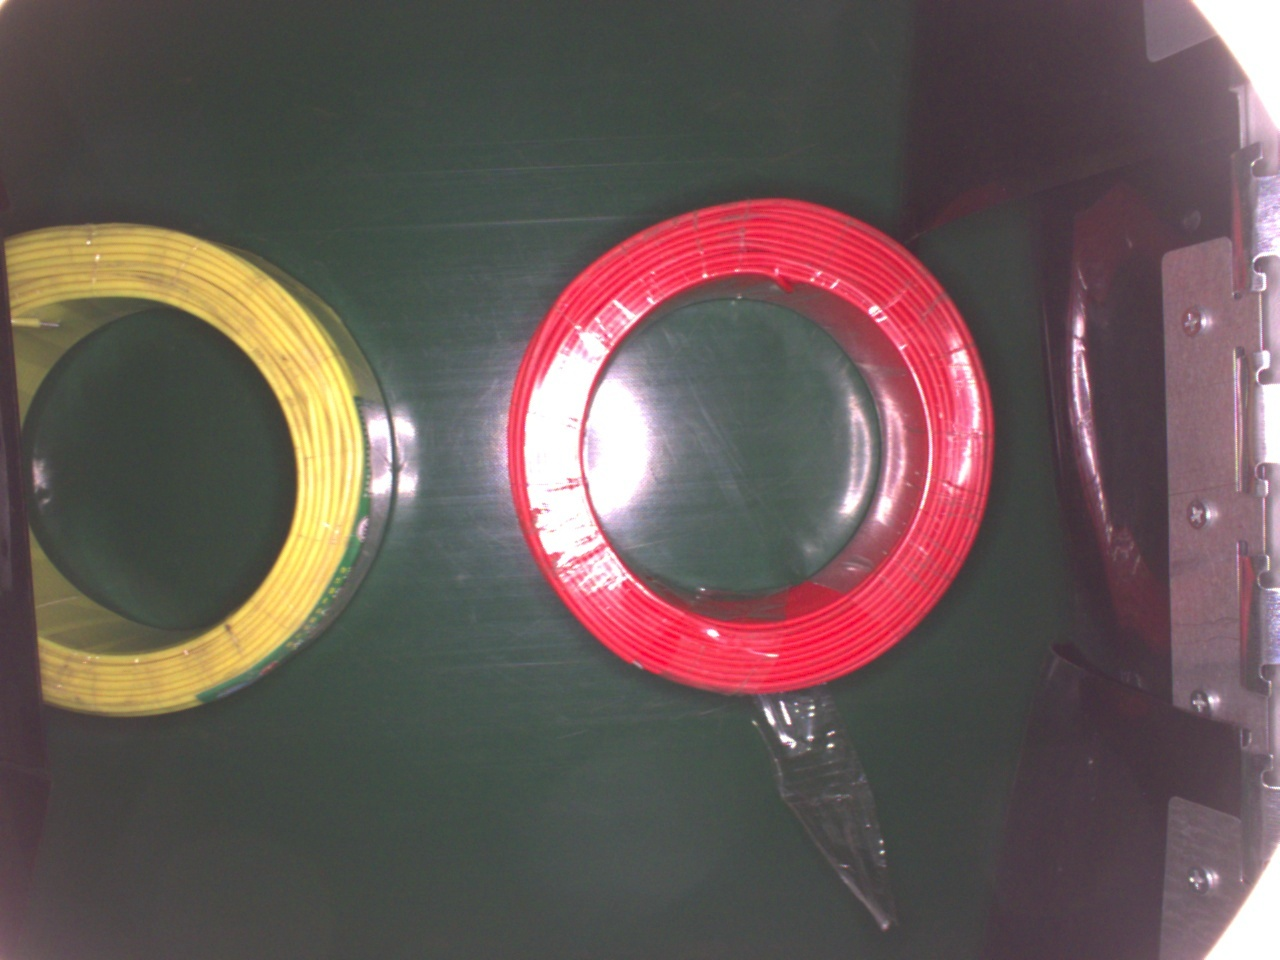red: (504, 197, 990, 693)
yellow: (0, 217, 398, 719)
